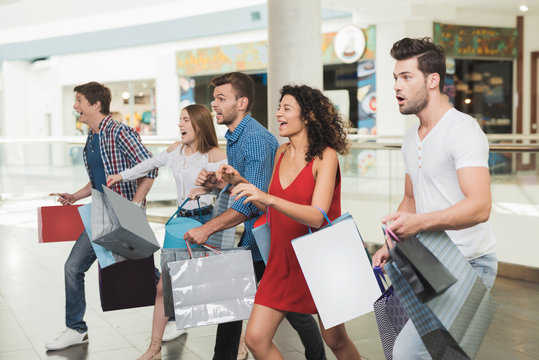Head: (392, 39, 440, 116), (211, 72, 248, 125), (275, 84, 310, 136), (73, 81, 101, 123), (178, 104, 200, 144)
